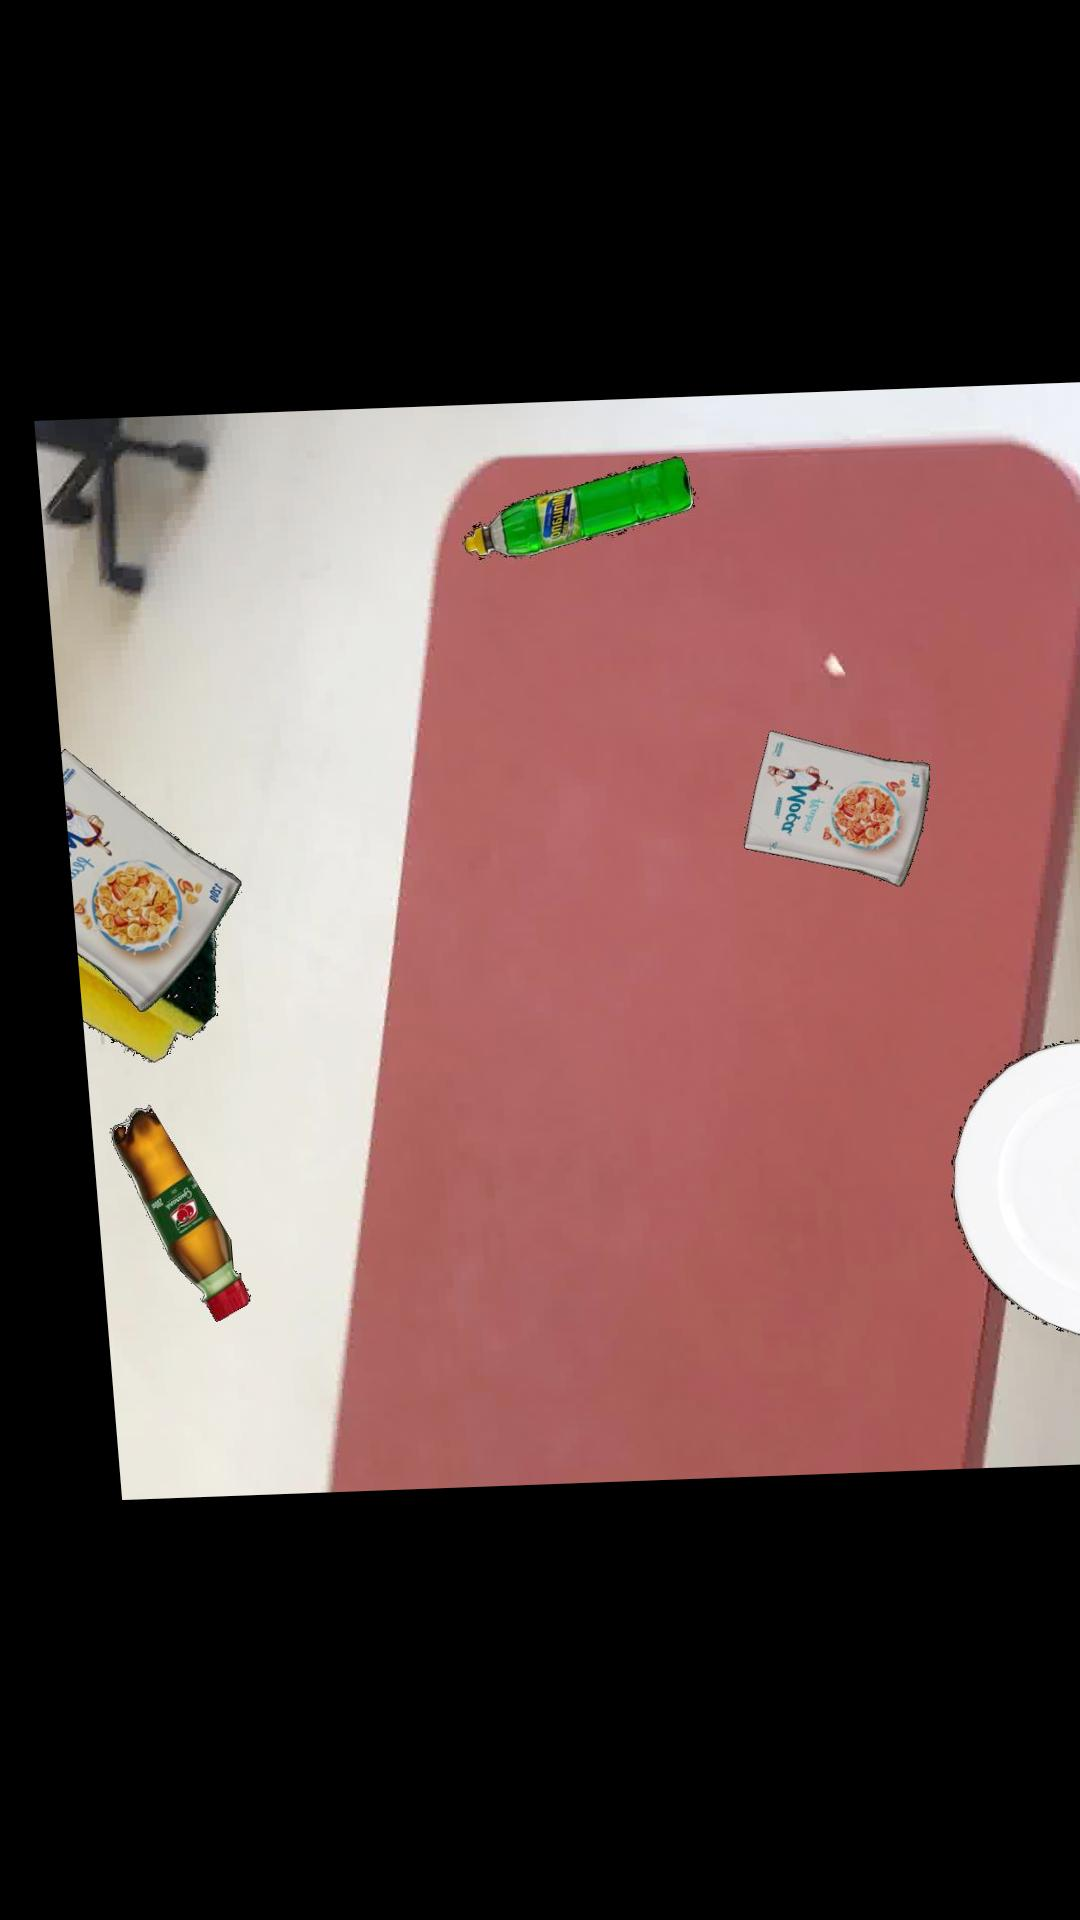cleaner: (452, 462, 684, 562)
corn flakes: (49, 749, 224, 1013), (728, 737, 915, 894)
guarana: (90, 1106, 227, 1324)
plate: (930, 1048, 1080, 1348)
sponge: (61, 932, 199, 1064)
